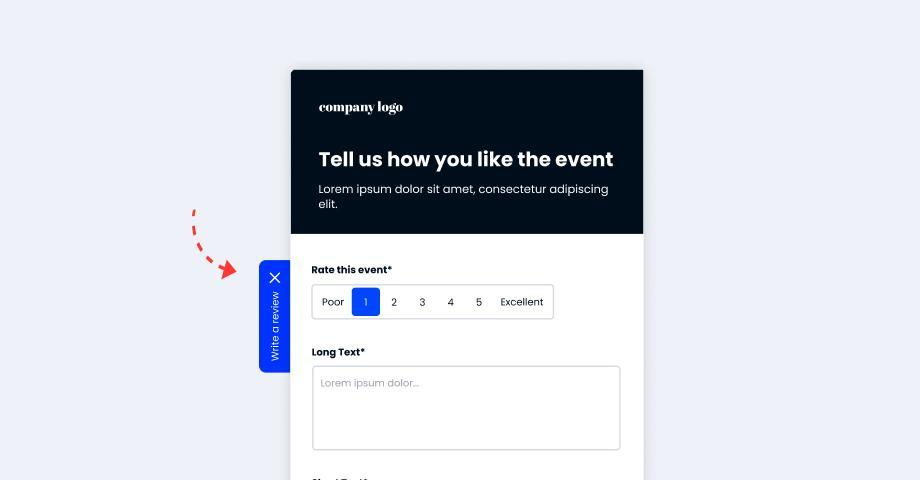button: (260, 261, 291, 375)
label: (315, 147, 617, 175), (310, 262, 395, 279), (313, 346, 368, 363), (499, 297, 547, 309), (319, 296, 346, 310)
